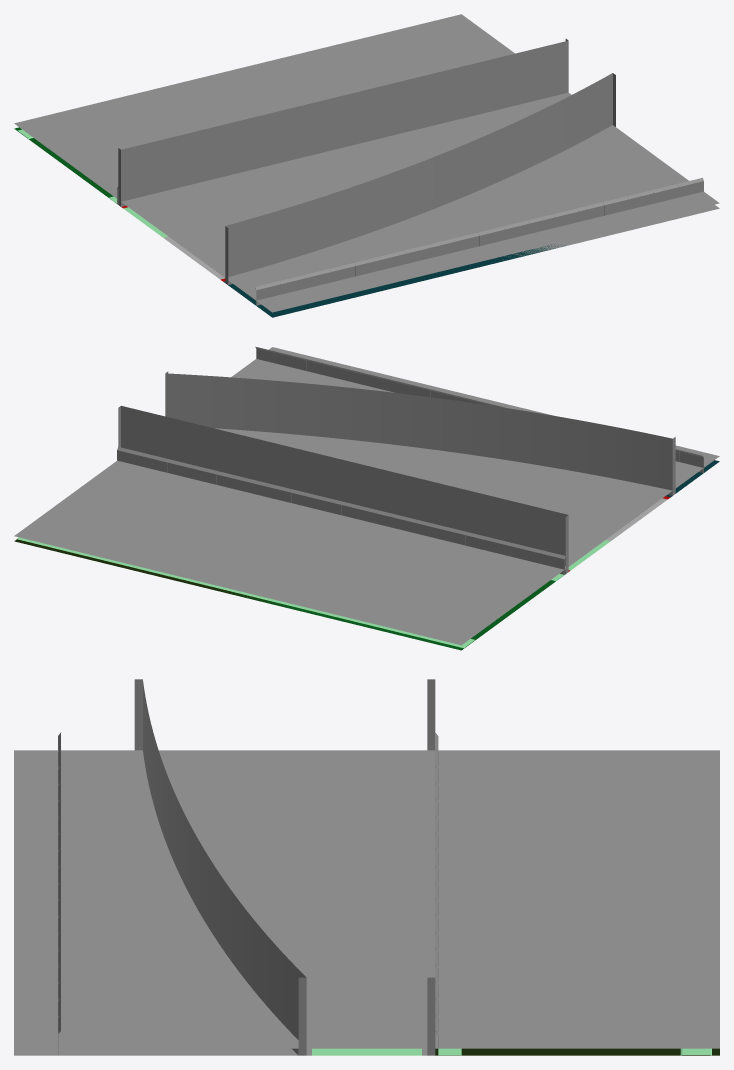
Rendered from RT Pit Line V01 T02.FBX.
3 renders of one model, top to bottom at view 1: azimuth 30°, elevation 25°; view 2: azimuth 150°, elevation 25°; view 3: azimuth 270°, elevation 25°, orthographic. The views are drawn at different scales.
Parts seen in each view (by area): view 1: RT Pit Line V01 T02 SNAP, RT Pit Line V01 T02 COLL II, RT Pit Line V01 T02 COLL I, RT Pit Line V01 T02 Fence Shared II, RT Pit Line V01 T02 NAV PitAsp, RT Pit Line v01 T02 RubW II, RT Pit Line V01 T02, RT Pit Line V01 T02 NoGrass, RT Pit Line V01 T02 NAV Grass; view 2: RT Pit Line V01 T02 SNAP, RT Pit Line V01 T02 COLL I, RT Pit Line V01 T02 COLL II, RT Pit Line V01 T02 Fence Shared I, RT Pit Line V01 T02 Fence Shared II, RT Pit Line V01 T02 SR I, RT Pit Line V01 T02 NAV Grass, RT Pit Line V01 T02; view 3: RT Pit Line V01 T02 SNAP, RT Pit Line V01 T02 COLL I, RT Pit Line V01 T02, RT Pit Line v01 T02 RubW II, RT Pit Line V01 T02 RubW I, RT Pit Line V01 T02 COLL II, RT Pit Line V01 T02 Fence Shared II, RT Pit Line V01 T02 Fence Shared I.
Boxes of the visible parts, left/top/right/bottom form: RT Pit Line V01 T02 SNAP: left=14, top=14, right=719, bottom=312; RT Pit Line V01 T02 COLL II: left=118, top=38, right=568, bottom=206; RT Pit Line V01 T02 COLL I: left=225, top=73, right=615, bottom=284; RT Pit Line V01 T02 Fence Shared II: left=255, top=178, right=703, bottom=305; RT Pit Line V01 T02 NAV PitAsp: left=223, top=244, right=561, bottom=317; RT Pit Line v01 T02 RubW II: left=228, top=125, right=615, bottom=284; RT Pit Line V01 T02: left=123, top=204, right=719, bottom=259; RT Pit Line V01 T02 NoGrass: left=124, top=205, right=718, bottom=259; RT Pit Line V01 T02 NAV Grass: left=14, top=127, right=117, bottom=204; RT Pit Line V01 T02 SNAP: left=14, top=347, right=719, bottom=645; RT Pit Line V01 T02 COLL I: left=165, top=371, right=675, bottom=495; RT Pit Line V01 T02 COLL II: left=118, top=405, right=568, bottom=573; RT Pit Line V01 T02 Fence Shared I: left=117, top=447, right=565, bottom=574; RT Pit Line V01 T02 Fence Shared II: left=256, top=347, right=703, bottom=472; RT Pit Line V01 T02 SR I: left=17, top=537, right=474, bottom=648; RT Pit Line V01 T02 NAV Grass: left=216, top=574, right=565, bottom=650; RT Pit Line V01 T02: left=14, top=539, right=610, bottom=608; RT Pit Line V01 T02 SNAP: left=14, top=750, right=719, bottom=1048; RT Pit Line V01 T02 COLL I: left=134, top=679, right=306, bottom=1055; RT Pit Line V01 T02: left=14, top=1048, right=719, bottom=1055; RT Pit Line v01 T02 RubW II: left=135, top=750, right=298, bottom=1055; RT Pit Line V01 T02 RubW I: left=427, top=750, right=434, bottom=1052; RT Pit Line V01 T02 COLL II: left=427, top=679, right=435, bottom=1055; RT Pit Line V01 T02 Fence Shared II: left=58, top=733, right=60, bottom=1033; RT Pit Line V01 T02 Fence Shared I: left=435, top=733, right=437, bottom=1033.
Bounding box in the file's own units: 90 × 11 × 90.
